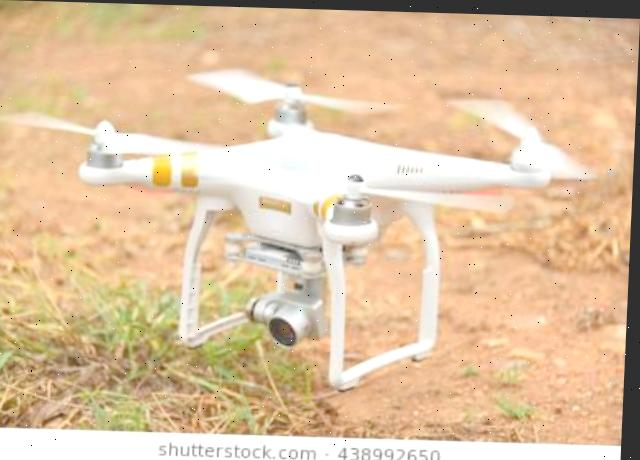drone: (0, 33, 611, 393)
